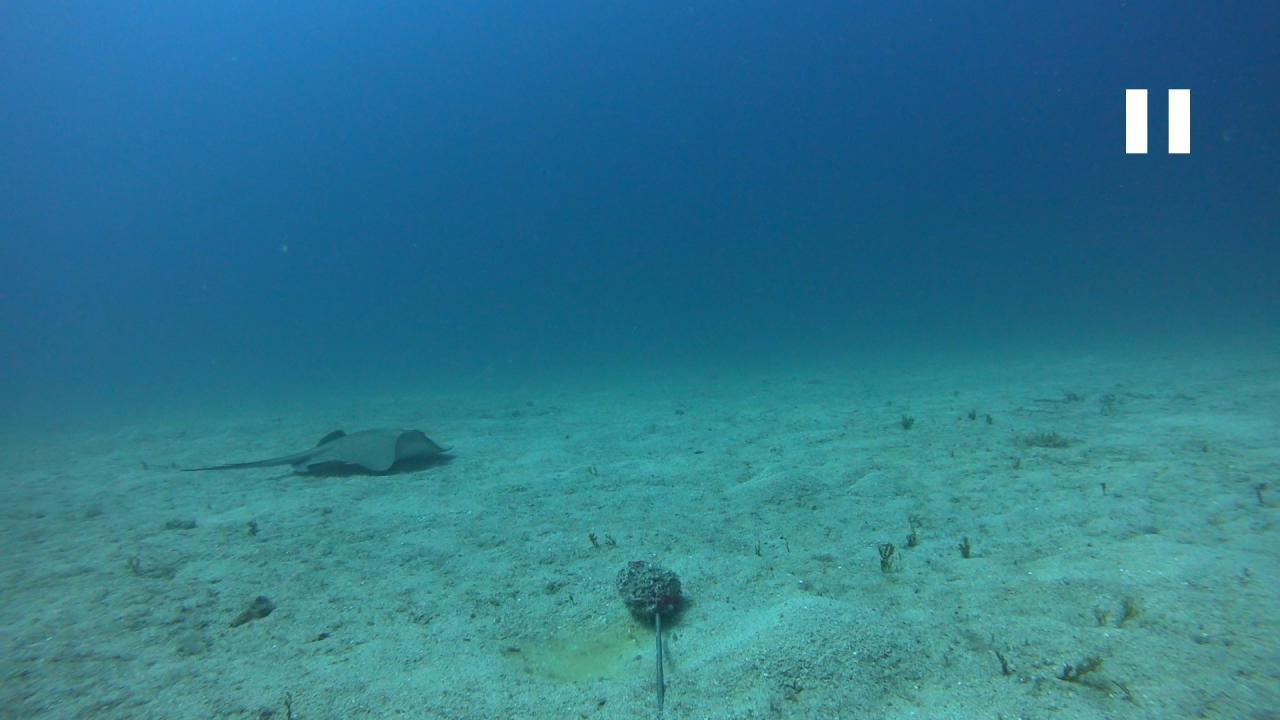dasyatis: (178, 427, 456, 472)
